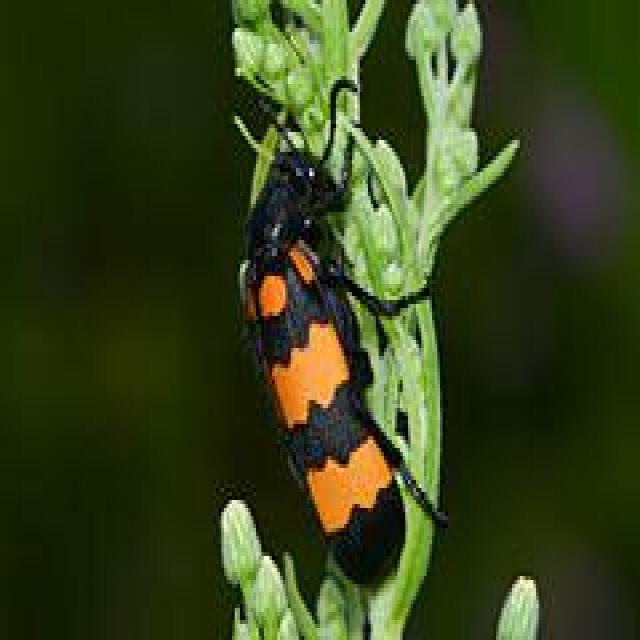BlisterBeetle-Adult-: (232, 64, 457, 590)
